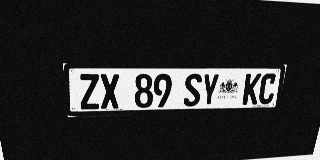8: (135, 74, 153, 108)
9: (153, 74, 172, 107)
C: (257, 73, 277, 104)
K: (242, 74, 262, 105)
S: (183, 74, 202, 107)
X: (99, 74, 120, 109)
Y: (200, 74, 220, 106)
Z: (78, 74, 100, 110)
